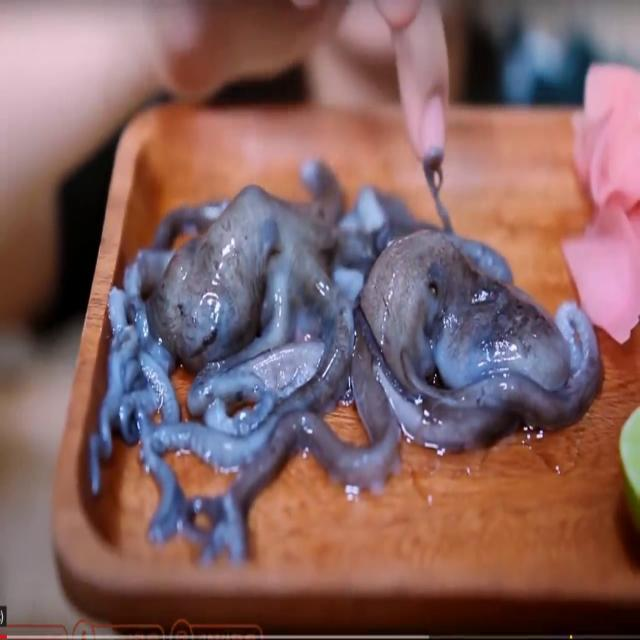octopus: (88, 166, 426, 550), (244, 228, 606, 497)
